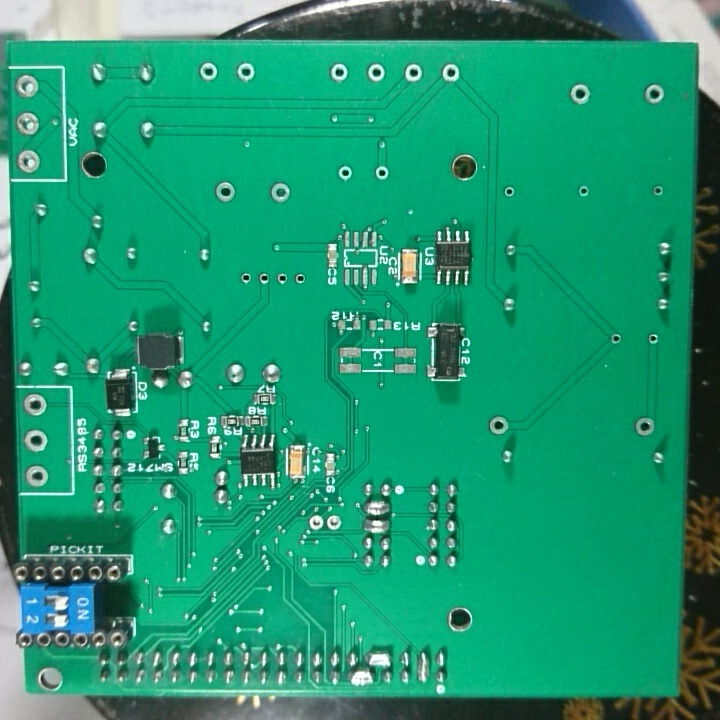F: (266, 176, 294, 207), (14, 107, 41, 138), (16, 146, 43, 177), (22, 426, 50, 455), (12, 73, 40, 101), (21, 463, 51, 488), (211, 178, 237, 206), (567, 83, 593, 109), (22, 391, 48, 417), (642, 82, 668, 106), (439, 61, 463, 86), (634, 415, 657, 440), (487, 413, 510, 438), (197, 58, 219, 83), (365, 60, 388, 83), (235, 60, 257, 84), (328, 60, 349, 85), (371, 162, 392, 186), (402, 62, 422, 86), (323, 513, 344, 535), (273, 267, 291, 290), (254, 268, 274, 288), (336, 162, 354, 184), (290, 267, 307, 290), (305, 512, 324, 532), (501, 181, 518, 203), (575, 181, 592, 202), (650, 182, 667, 201), (608, 329, 625, 347), (238, 269, 254, 288), (645, 331, 659, 349)
P: (362, 497, 395, 518), (345, 667, 375, 688), (414, 649, 431, 685), (363, 647, 392, 667), (361, 518, 391, 534)
